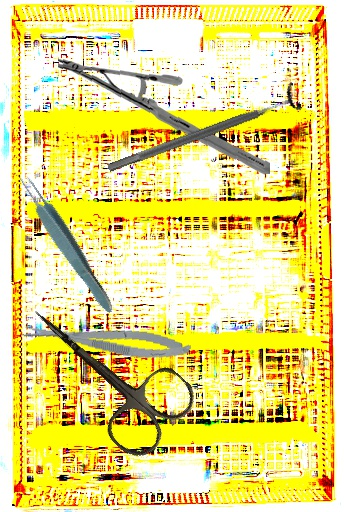Fixation Ring: (102, 80, 304, 184)
Iris Scissors: (5, 275, 203, 466)
Micro Scissor: (20, 314, 193, 365)
Needle Holder: (57, 50, 271, 182)
Tissue Forceps: (12, 167, 121, 318)
